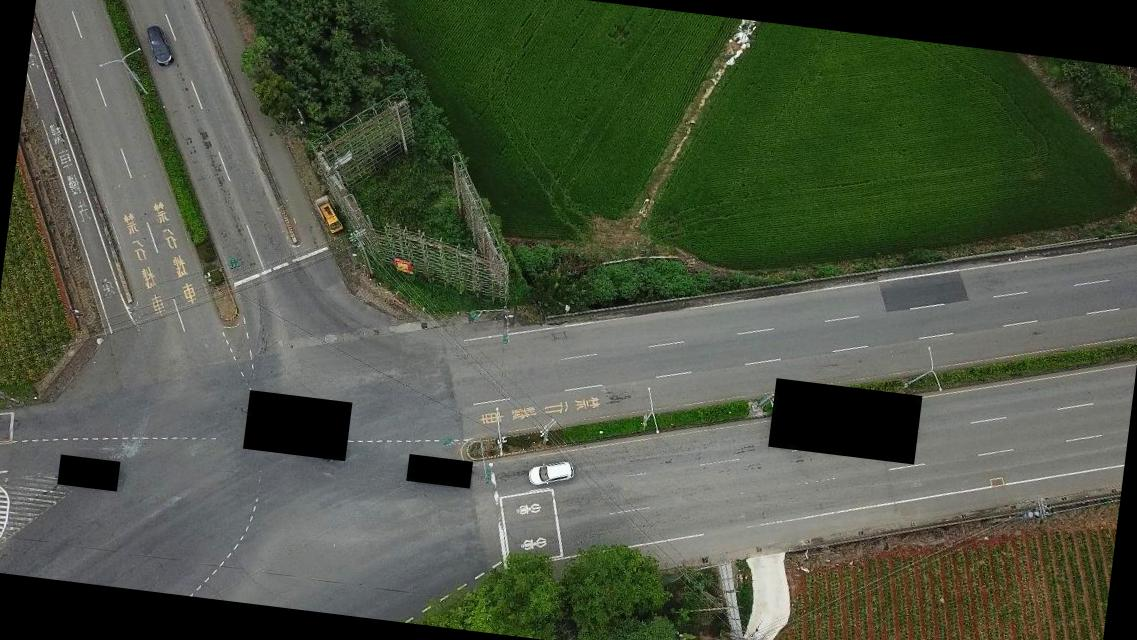vehicle: (526, 454, 576, 490), (141, 22, 177, 64), (315, 198, 344, 234)
